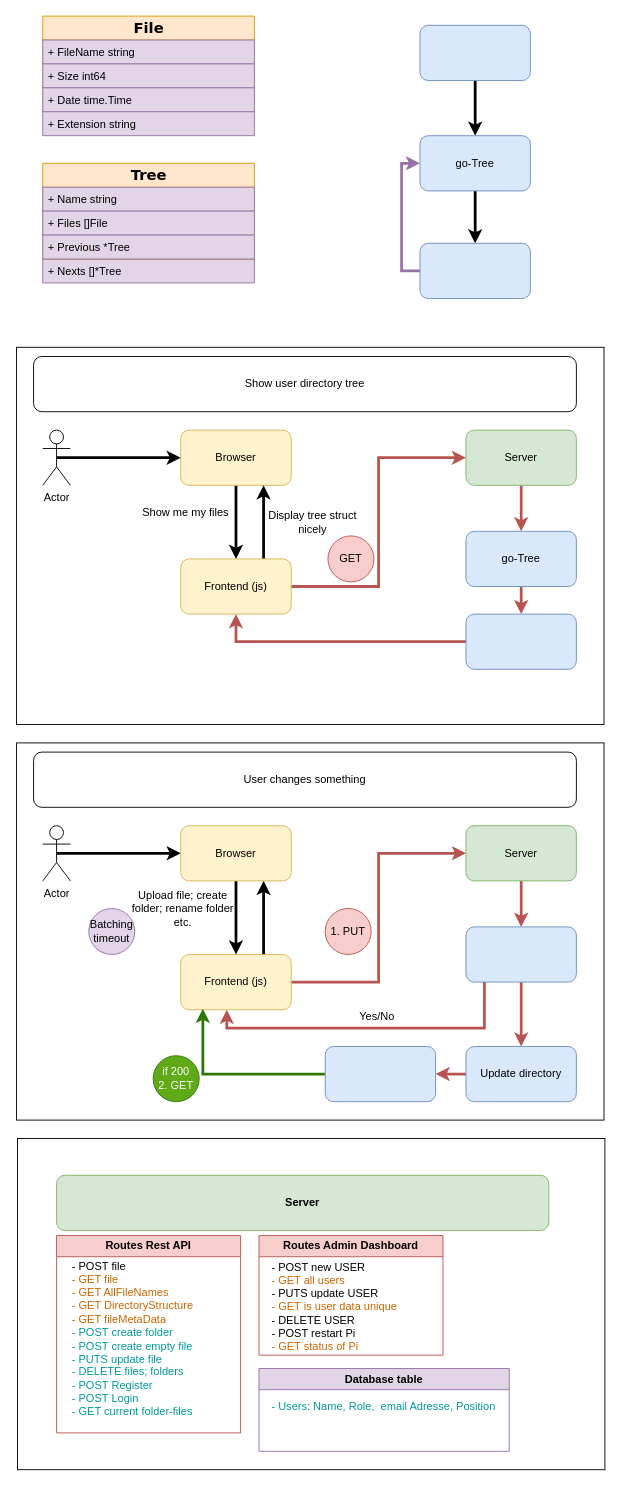
Some shapes in this 621 by 1486 pixel diagram are drawn without their labels. The centre of each missing label's shape, as x and y in pixels:
"Directory-Tree" belongs at point 474,52.
"Is this possible?" belongs at point 520,954.
"json-Tree" belongs at point 474,270.
"json-Tree for current folder" belongs at point 520,641.
"update json-Tree" belongs at point 380,1074.
